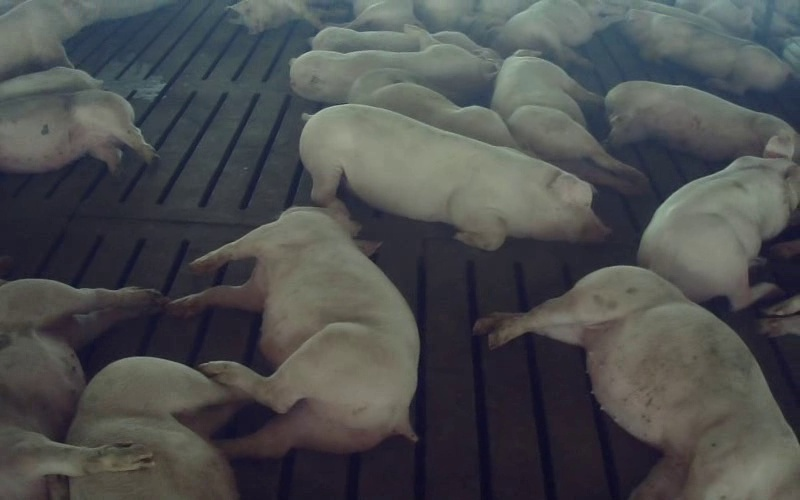pig: (475, 266, 799, 499), (168, 204, 418, 456), (300, 104, 608, 249), (638, 134, 799, 309), (67, 357, 243, 499), (491, 50, 648, 193), (290, 26, 498, 103), (605, 81, 799, 160), (623, 9, 790, 93), (0, 89, 157, 173), (349, 70, 517, 147), (495, 0, 628, 64)
